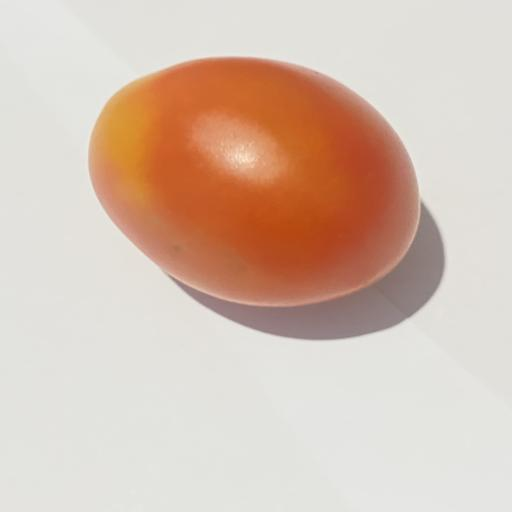ripe: (88, 57, 420, 306)
